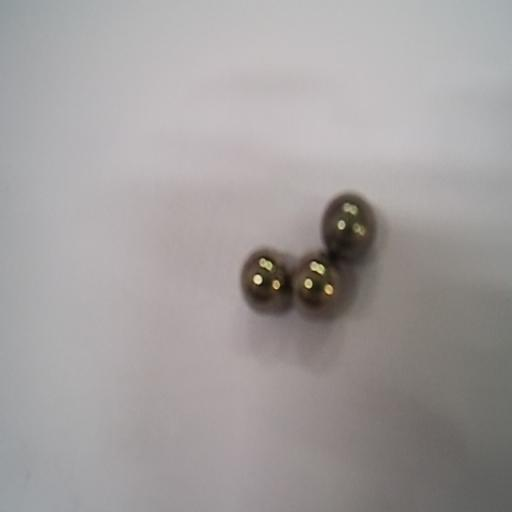steel-ball: (236, 244, 289, 321), (319, 194, 377, 262), (294, 252, 344, 321)
